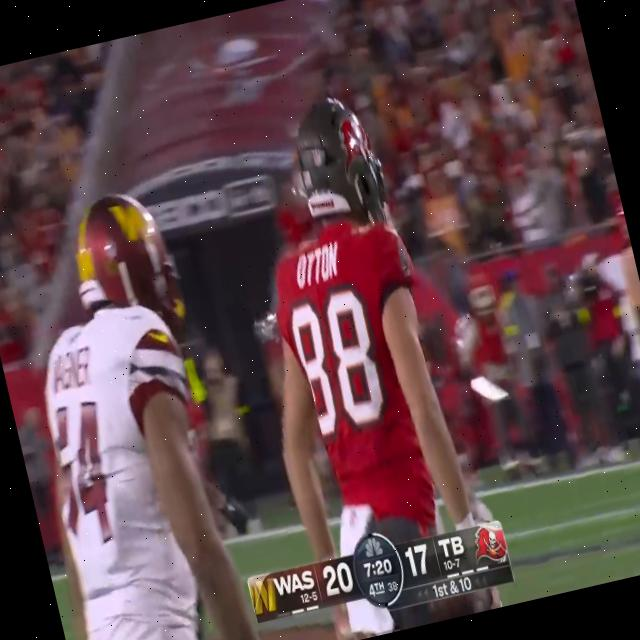Player: (202, 71, 468, 556), (0, 179, 271, 640)
